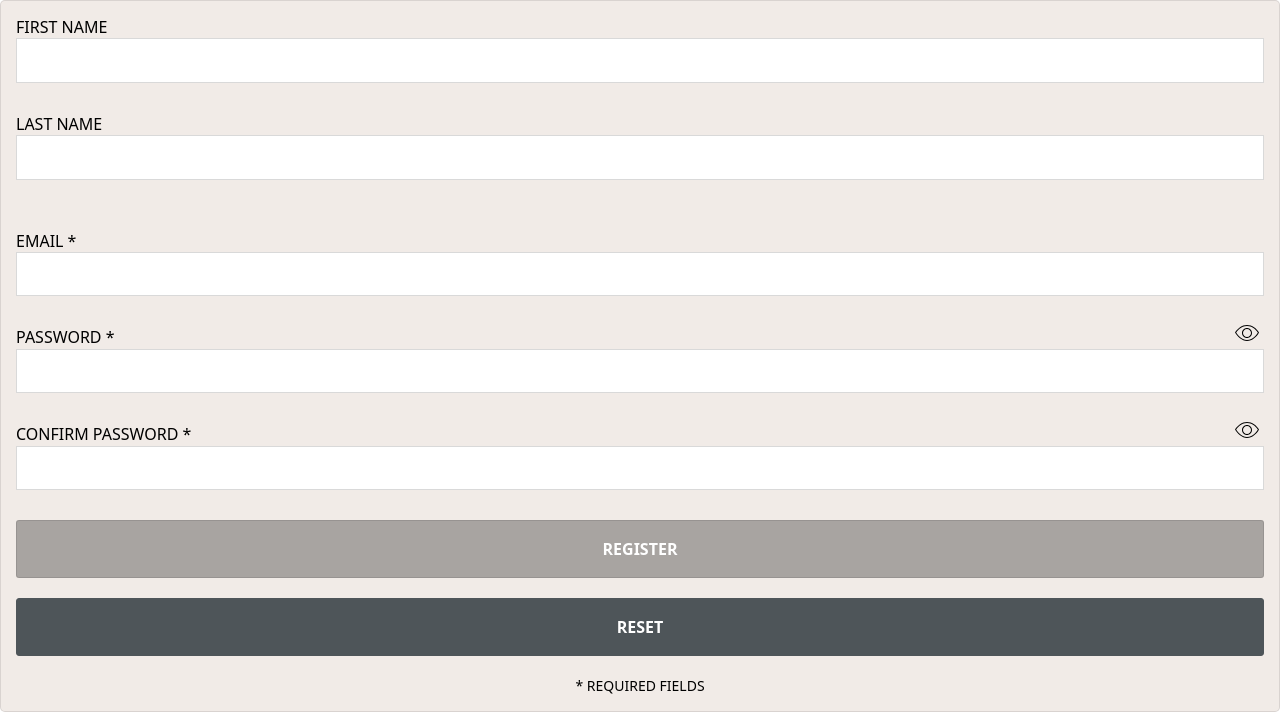
it: RegistrationForm › input validations › last name › invalid characters
Type "!invalid text value" into the field labelled "last name". click: coordinates (640, 157)
box: [16,135,1264,180]
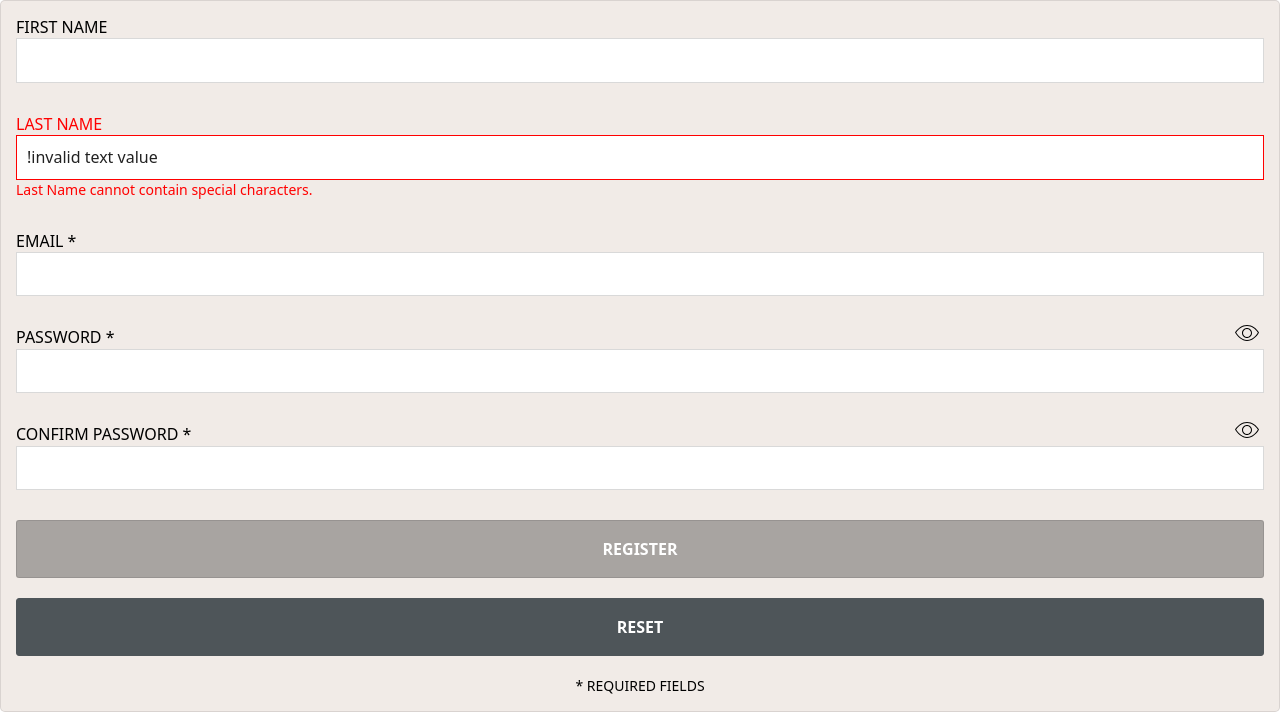
Check: the text "Last Name cannot contain special characters." is shown, box [16,180,312,200]
